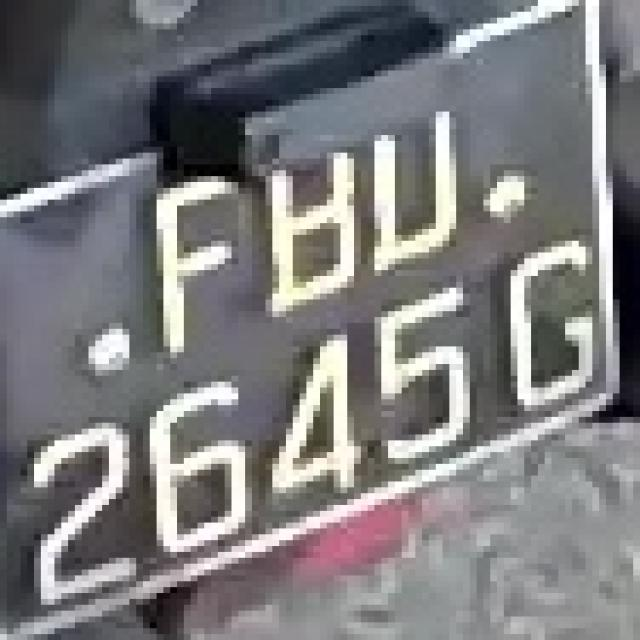2: (34, 411, 150, 622)
4: (245, 323, 381, 511)
5: (361, 282, 476, 499)
6: (143, 376, 272, 575)
B: (252, 118, 368, 312)
D: (354, 100, 470, 282)
F: (136, 153, 252, 358)
G: (476, 229, 620, 411)
